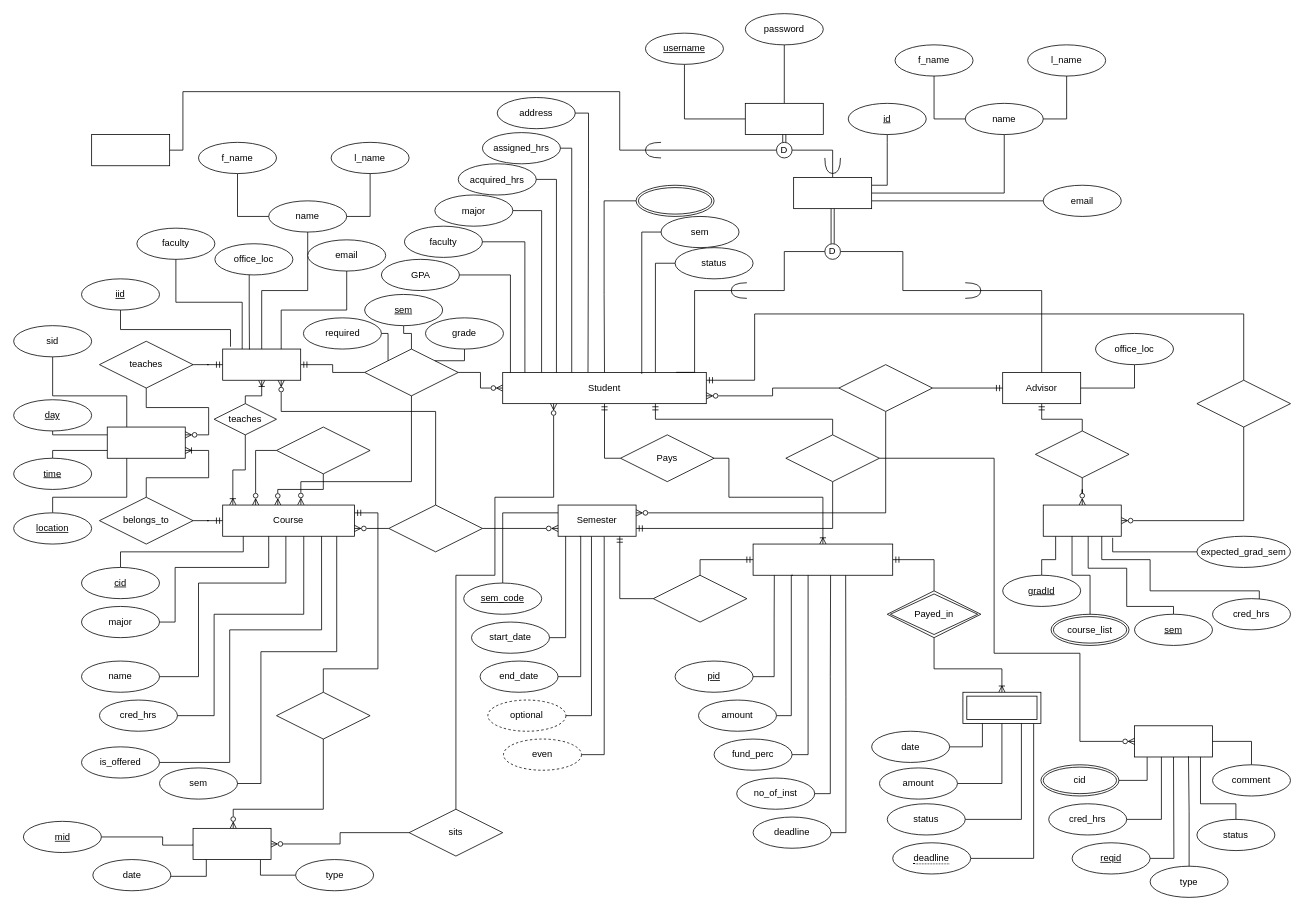
The diagram is 1304 pixels wide and 911 high, and some of its shapes have lost their labels. Here are the shapes that lost their labels. From the top down, the box of each, then its label:
(745, 103, 823, 135): User
(91, 134, 170, 166): Admin
(635, 184, 714, 216): mobile_no
(793, 177, 872, 209): non-admin
(222, 348, 301, 380): Instructor
(364, 348, 458, 396): Taught
(838, 364, 932, 411): Is_Advised
(1196, 379, 1291, 427): follows
(106, 426, 185, 458): Slot
(276, 426, 370, 474): requires
(785, 434, 879, 482): Requests
(1035, 430, 1129, 478): creates
(388, 504, 482, 552): Assigned
(1042, 504, 1121, 536): grad_plan
(752, 543, 893, 575): Payment
(652, 574, 747, 622): Paid_for
(276, 691, 370, 739): offers
(962, 691, 1041, 723): Installment
(1134, 725, 1213, 757): Request
(192, 828, 271, 860): make_up
